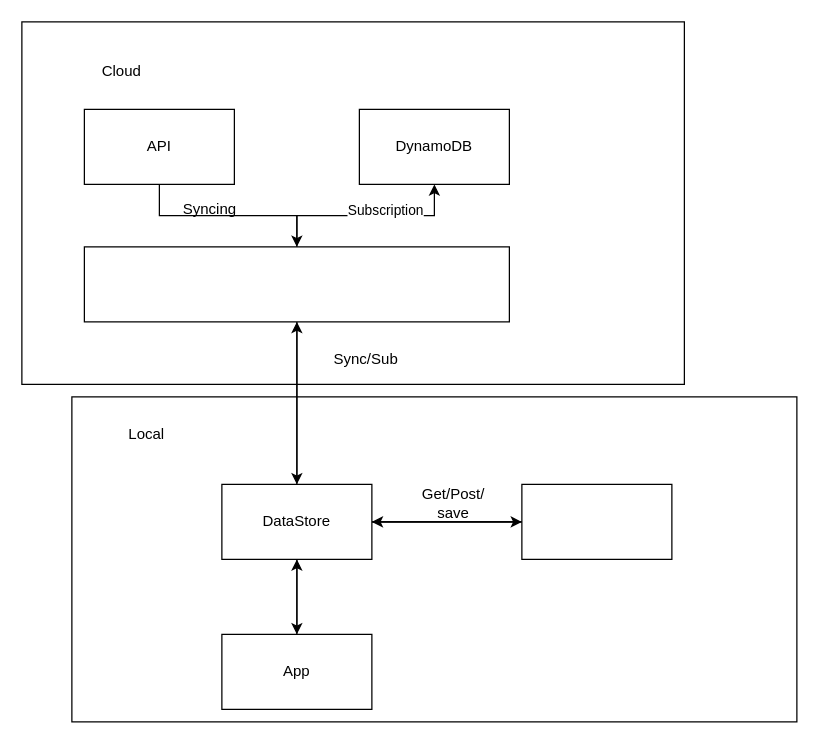
Some shapes in this 819 by 744 pixel diagram are drawn without their labels. The shapes that lost their labels are listed below. From the top down, each one's centre as x and y in pixels, then its label:
At pixel 296 284: "APPSYNC".
At pixel 596 521: "IDB".
